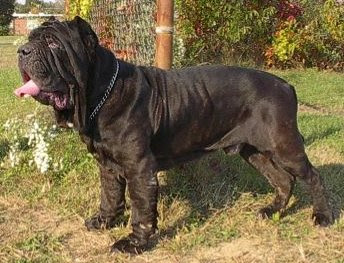neapolitan_mastiff: (12, 14, 334, 254)
